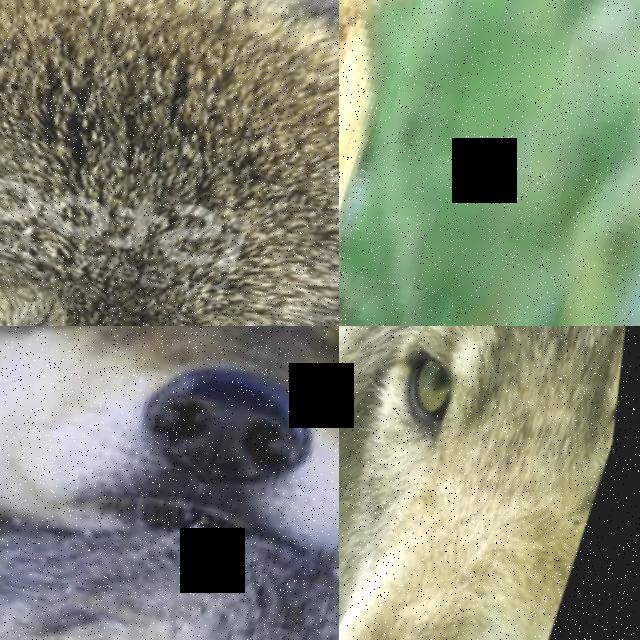dog: (339, 0, 621, 326)
wolf: (0, 0, 339, 326), (0, 326, 339, 640), (339, 326, 640, 640), (0, 436, 339, 640)
